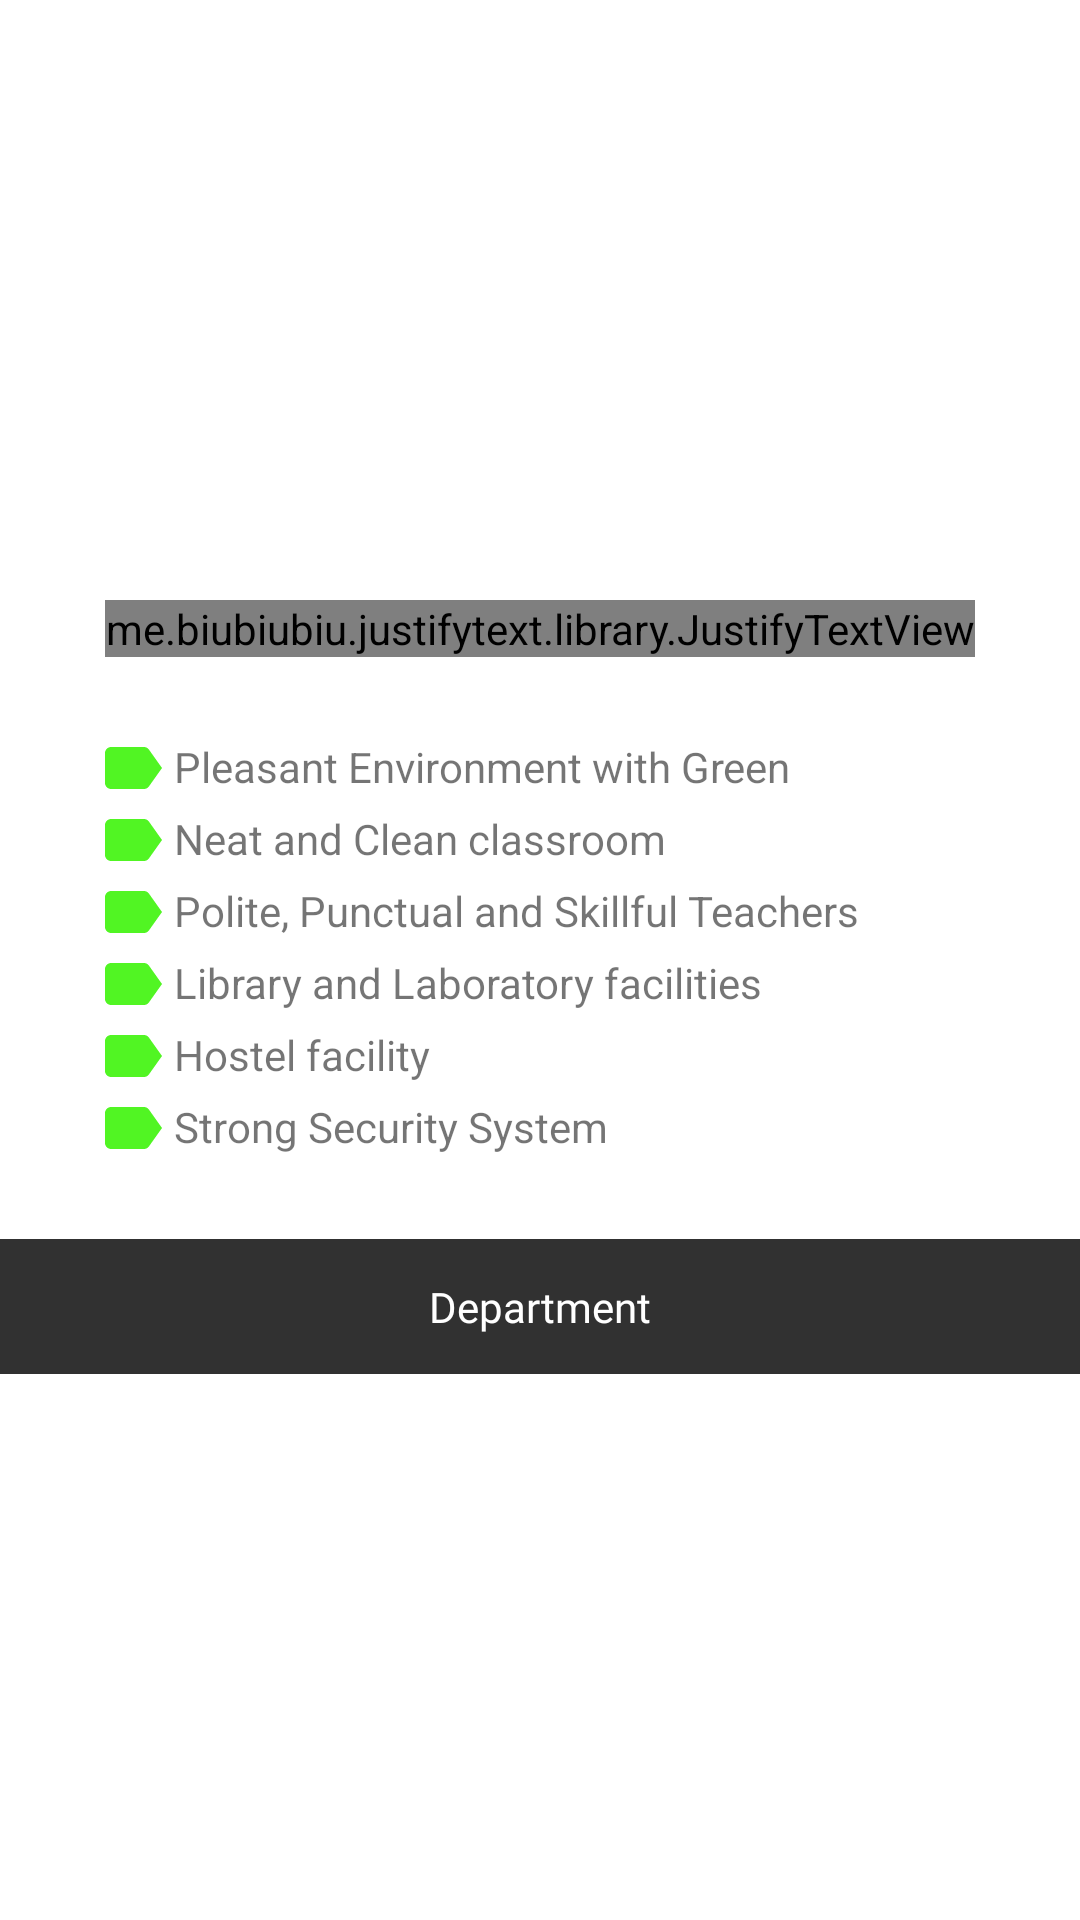

Where to tap for icons on this 1080px×1920px app screen, as (x,y):
label: (133,768), (133,840), (133,912), (133,984), (133,1056), (133,1128)
